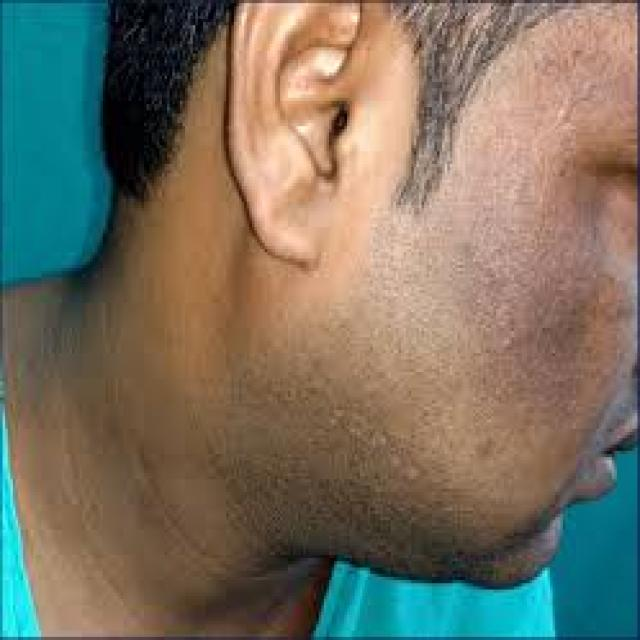pigmentation: (479, 204, 608, 400)
